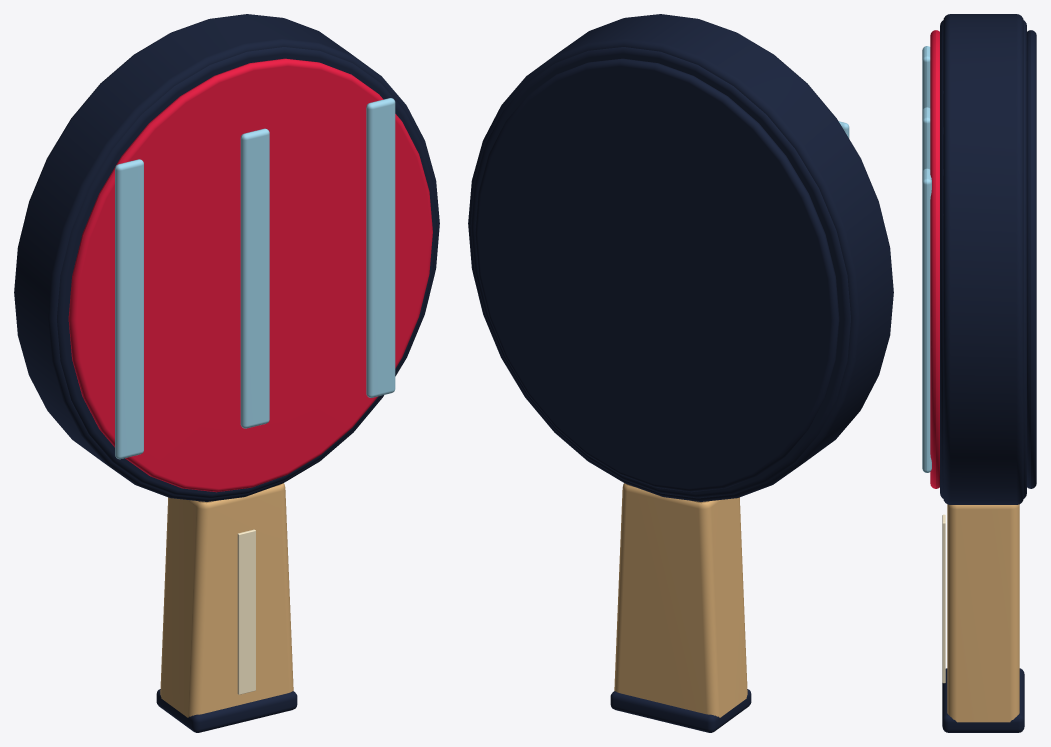
Rendered from Melee.fbx.
The picture shows the model from 3 angles, left to right: view 1: azimuth 30°, elevation 25°; view 2: azimuth 150°, elevation 25°; view 3: azimuth 270°, elevation 25°; orthographic projection.
Parts seen in each view (by area): view 1: FrontRubber, OuterRim, WoodHandle, RimLip, ImpactBand0, ImpactBand0.18, ImpactBand-0.18, HandleInlay, HandleButt; view 2: BackRubber, OuterRim, WoodHandle, RimLip, HandleButt; view 3: OuterRim, WoodHandle, BackRubber, FrontRubber, RimLip, ImpactBand0.18, HandleButt, HandleInlay, ImpactBand0, ImpactBand-0.18.
Boxes of the visible parts, x1=… form: FrontRubber: x1=68, y1=58, x2=432, y2=492; OuterRim: x1=14, y1=14, x2=439, y2=501; WoodHandle: x1=160, y1=483, x2=293, y2=717; RimLip: x1=57, y1=47, x2=437, y2=498; ImpactBand0: x1=240, y1=128, x2=269, y2=428; ImpactBand0.18: x1=366, y1=98, x2=395, y2=397; ImpactBand-0.18: x1=115, y1=159, x2=143, y2=459; HandleInlay: x1=237, y1=529, x2=255, y2=694; HandleButt: x1=156, y1=689, x2=297, y2=732; BackRubber: x1=475, y1=58, x2=839, y2=492; OuterRim: x1=468, y1=14, x2=893, y2=501; WoodHandle: x1=614, y1=483, x2=747, y2=717; RimLip: x1=470, y1=47, x2=850, y2=498; HandleButt: x1=610, y1=689, x2=751, y2=732; OuterRim: x1=943, y1=14, x2=1023, y2=504; WoodHandle: x1=947, y1=504, x2=1019, y2=722; BackRubber: x1=1027, y1=30, x2=1036, y2=488; FrontRubber: x1=930, y1=30, x2=939, y2=488; RimLip: x1=940, y1=20, x2=1026, y2=498; ImpactBand0.18: x1=922, y1=168, x2=931, y2=472; HandleButt: x1=942, y1=668, x2=1024, y2=732; HandleInlay: x1=942, y1=514, x2=945, y2=683; ImpactBand0: x1=922, y1=107, x2=930, y2=171; ImpactBand-0.18: x1=922, y1=46, x2=930, y2=110.
Size of the model in its own units: 56 by 92.65 by 14.2.
